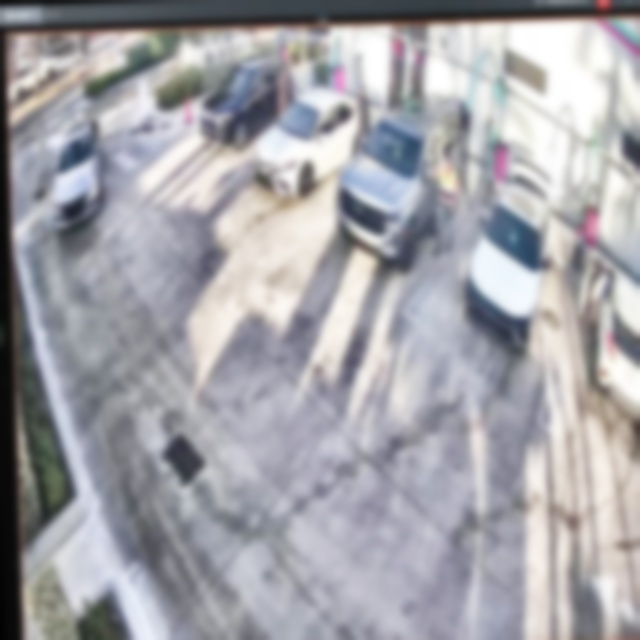Car: (329, 93, 471, 267), (463, 157, 557, 348), (250, 89, 372, 199), (199, 55, 295, 150)
